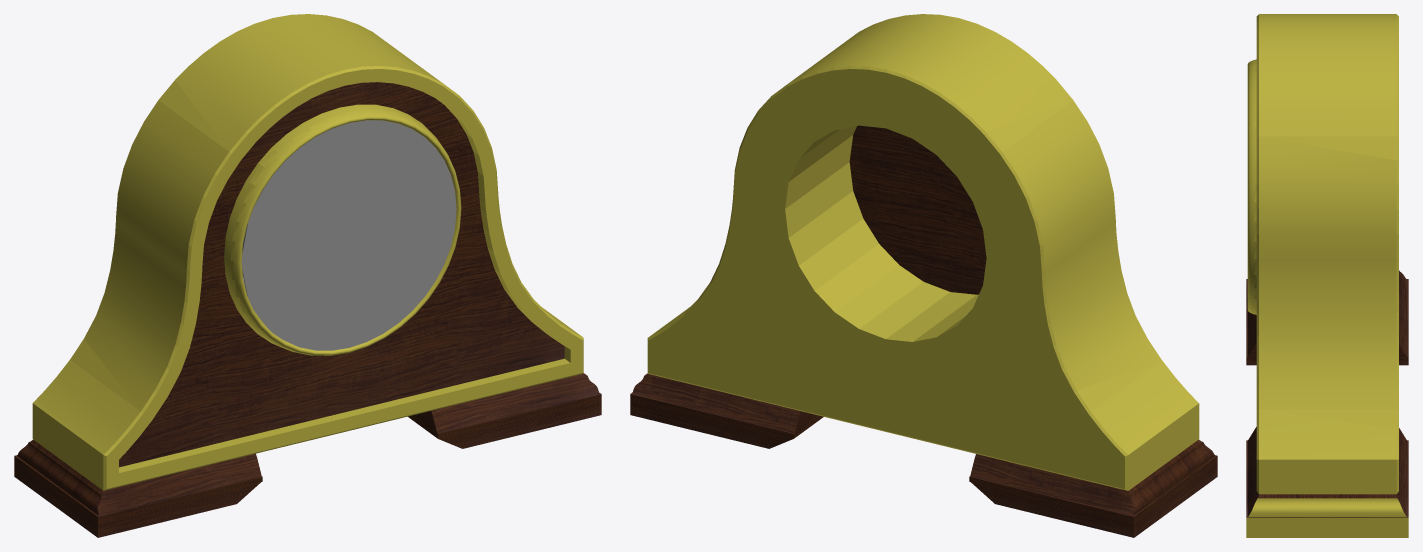
Rendered from Clock 10.fbx.
3 views of the same model, side by side, from view 1: azimuth 30°, elevation 25°; view 2: azimuth 150°, elevation 25°; view 3: azimuth 270°, elevation 25° (orthographic). The views are drawn at different scales.
Visible parts, largest first — view 1: clock 10; view 2: clock 10; view 3: clock 10.
Part boxes in pixels (left/top/right/bottom): clock 10: left=14, top=14, right=601, bottom=537; clock 10: left=630, top=14, right=1217, bottom=537; clock 10: left=1246, top=14, right=1408, bottom=537.
Size of the model in its own units: 34.63 by 26.4 by 9.96.
7 materials, 3 textured.
